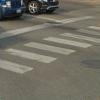Crosswalk: (1, 30, 100, 82)
